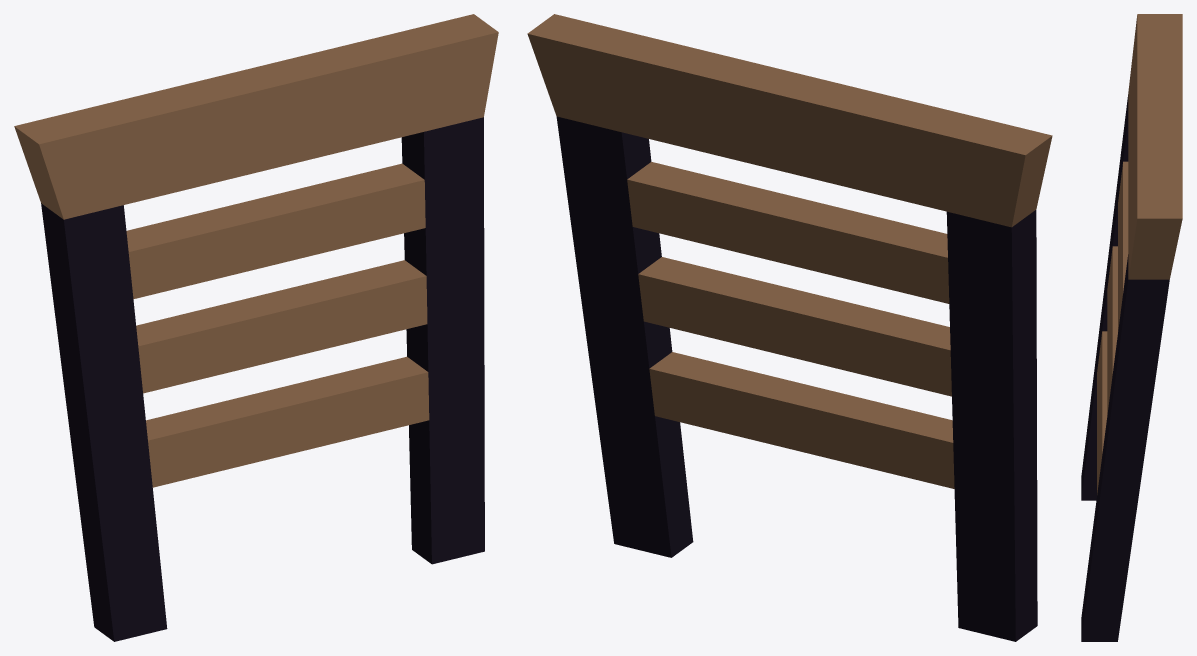
Rendered from Dining_ChairBack.fbx.
The picture shows the model from 3 angles, left to right: view 1: azimuth 30°, elevation 25°; view 2: azimuth 150°, elevation 25°; view 3: azimuth 270°, elevation 25°; orthographic projection. The views are drawn at different scales.
Visible parts, largest first — view 1: ChairBack; view 2: ChairBack; view 3: ChairBack.
Part boxes in pixels (left/top/right/bottom): ChairBack: left=14, top=14, right=498, bottom=641; ChairBack: left=527, top=14, right=1052, bottom=641; ChairBack: left=1081, top=14, right=1182, bottom=641.
Size of the model in its own units: 126 by 26.43 by 127.
